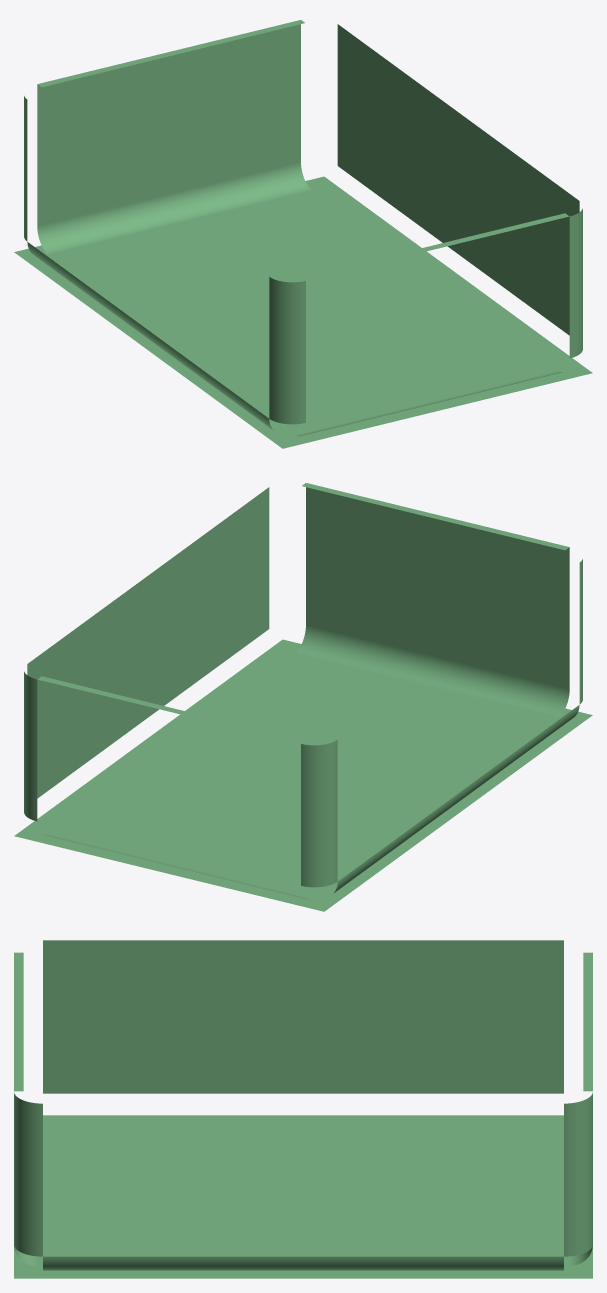
Rendered from stadium_dfh_mesh_a_v01.glb.
3 renders of one model, top to bottom at view 1: azimuth 30°, elevation 25°; view 2: azimuth 150°, elevation 25°; view 3: azimuth 270°, elevation 25°, orthographic. The views are drawn at different scales.
Visible parts, largest first — view 1: Stadium_Floor; view 2: Stadium_Floor; view 3: Stadium_Floor.
Boxes of the visible parts, box(x1,y1,x2,y2) form: Stadium_Floor: box(14, 20, 592, 448); Stadium_Floor: box(14, 483, 592, 911); Stadium_Floor: box(14, 940, 592, 1278).
Bounding box in the file's own units: 40 × 20 × 60.
